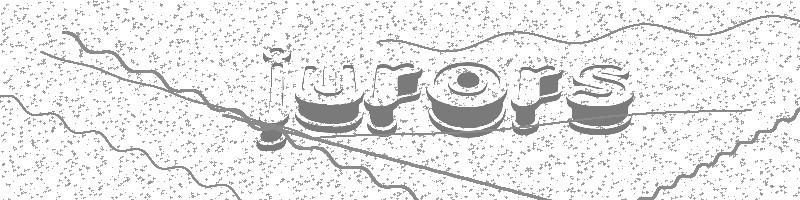i: (246, 40, 300, 154)
o: (424, 59, 511, 143)
r: (568, 63, 644, 137), (363, 60, 423, 142), (506, 62, 564, 142)
u: (298, 60, 364, 138)
